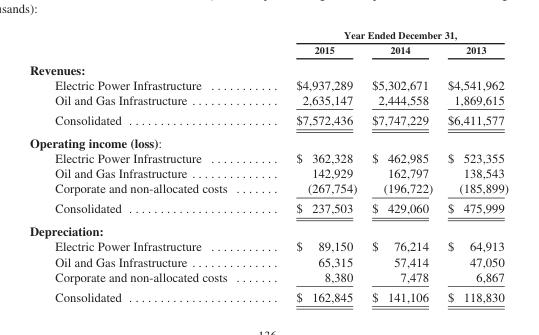table: (28, 28, 507, 303)
table column: (28, 28, 261, 303), (261, 28, 363, 303), (363, 28, 439, 303), (439, 28, 507, 303)
table column header: (28, 28, 507, 58)
table projected row header: (28, 130, 507, 150), (28, 219, 507, 238), (28, 58, 507, 76)
table row: (28, 109, 507, 130), (28, 198, 507, 219), (28, 130, 507, 150), (28, 219, 507, 238), (28, 58, 507, 76), (28, 180, 507, 198), (28, 268, 507, 286), (28, 92, 507, 109), (28, 286, 507, 303), (28, 42, 507, 58), (28, 76, 507, 92), (28, 150, 507, 165), (28, 165, 507, 180), (28, 238, 507, 253), (28, 253, 507, 268), (28, 28, 507, 42)
table spanning cell: (261, 28, 507, 42)
